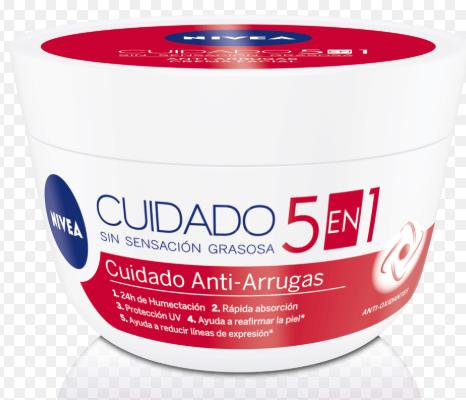brand: (45, 209, 86, 240)
product_name: (99, 255, 331, 298)
